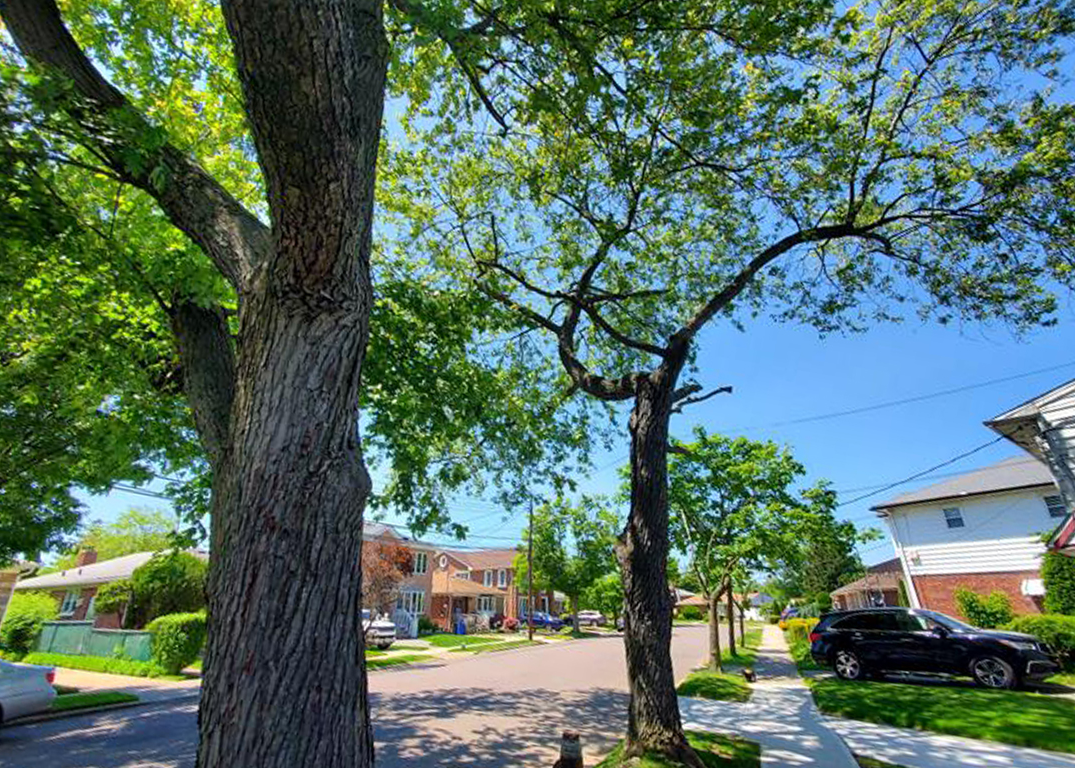Car: (805, 603, 1052, 688)
Tree: (1, 1, 534, 758), (411, 1, 806, 765), (685, 452, 813, 682)
